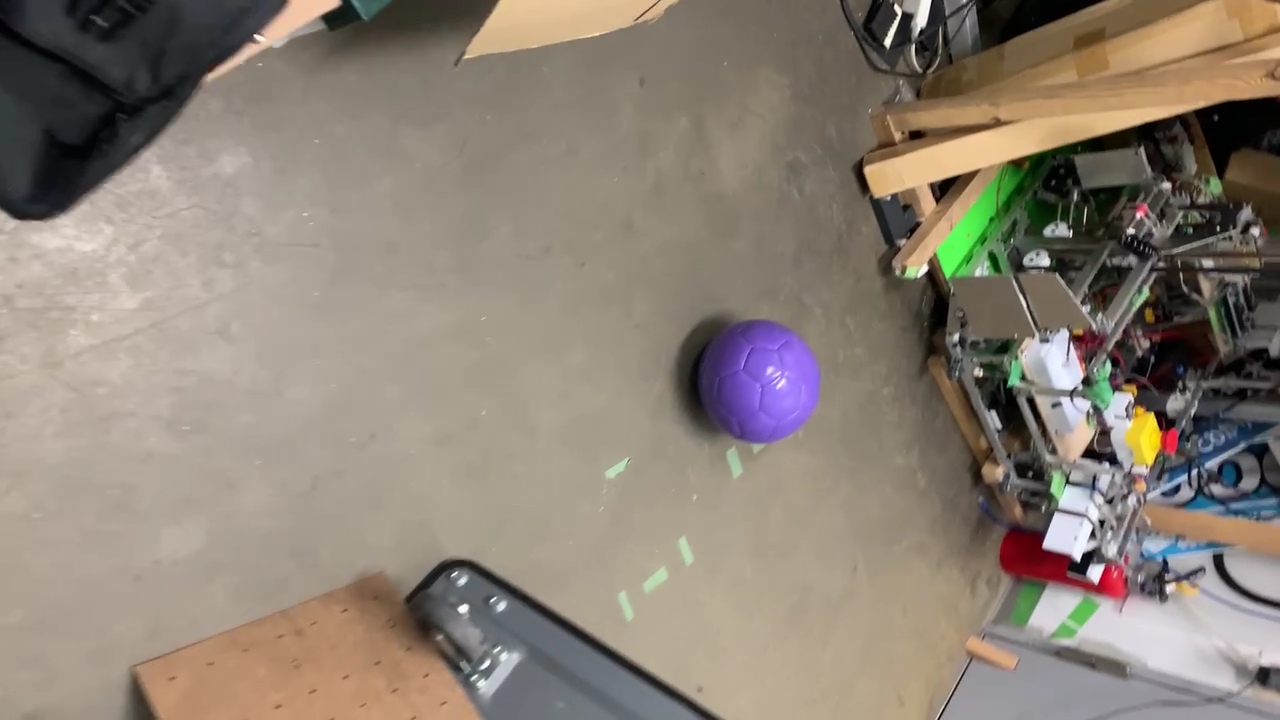purple: (695, 320, 821, 443)
